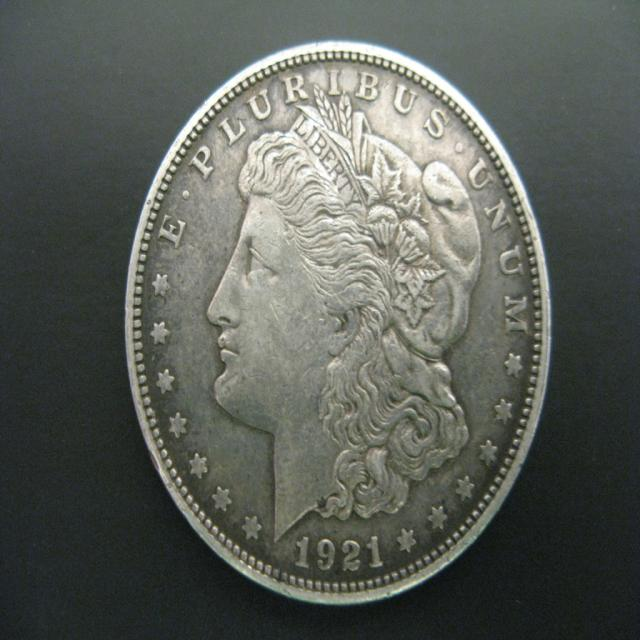Coin: (124, 42, 551, 602)
